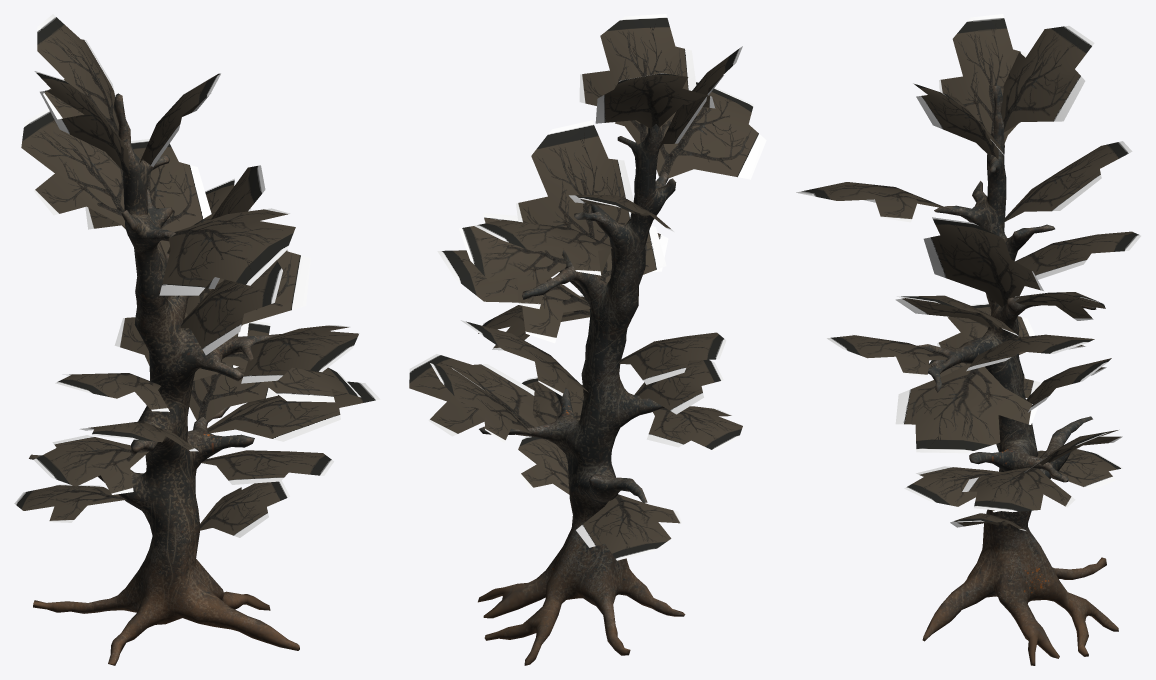
The model's file is arbol_seco_1.obj.
The picture shows the model from 3 angles, left to right: view 1: azimuth 30°, elevation 25°; view 2: azimuth 150°, elevation 25°; view 3: azimuth 270°, elevation 25°; orthographic projection. The views are drawn at different scales.
Parts seen in each view (by area): view 1: export_branches_branches_0, export_tree1_tree1_0; view 2: export_branches_branches_0, export_tree1_tree1_0; view 3: export_branches_branches_0, export_tree1_tree1_0.
Boxes of the visible parts, left/top/right/bottom form: export_branches_branches_0: left=14, top=14, right=380, bottom=537; export_tree1_tree1_0: left=29, top=93, right=330, bottom=665; export_branches_branches_0: left=409, top=14, right=766, bottom=560; export_tree1_tree1_0: left=478, top=124, right=685, bottom=665; export_branches_branches_0: left=796, top=14, right=1140, bottom=530; export_tree1_tree1_0: left=917, top=85, right=1118, bottom=665.
Bounding box in the file's own units: 0.5598 × 1 × 0.563.
Materials: 2 (2 with a texture image).
